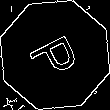P_NE: (24, 27, 86, 83)
